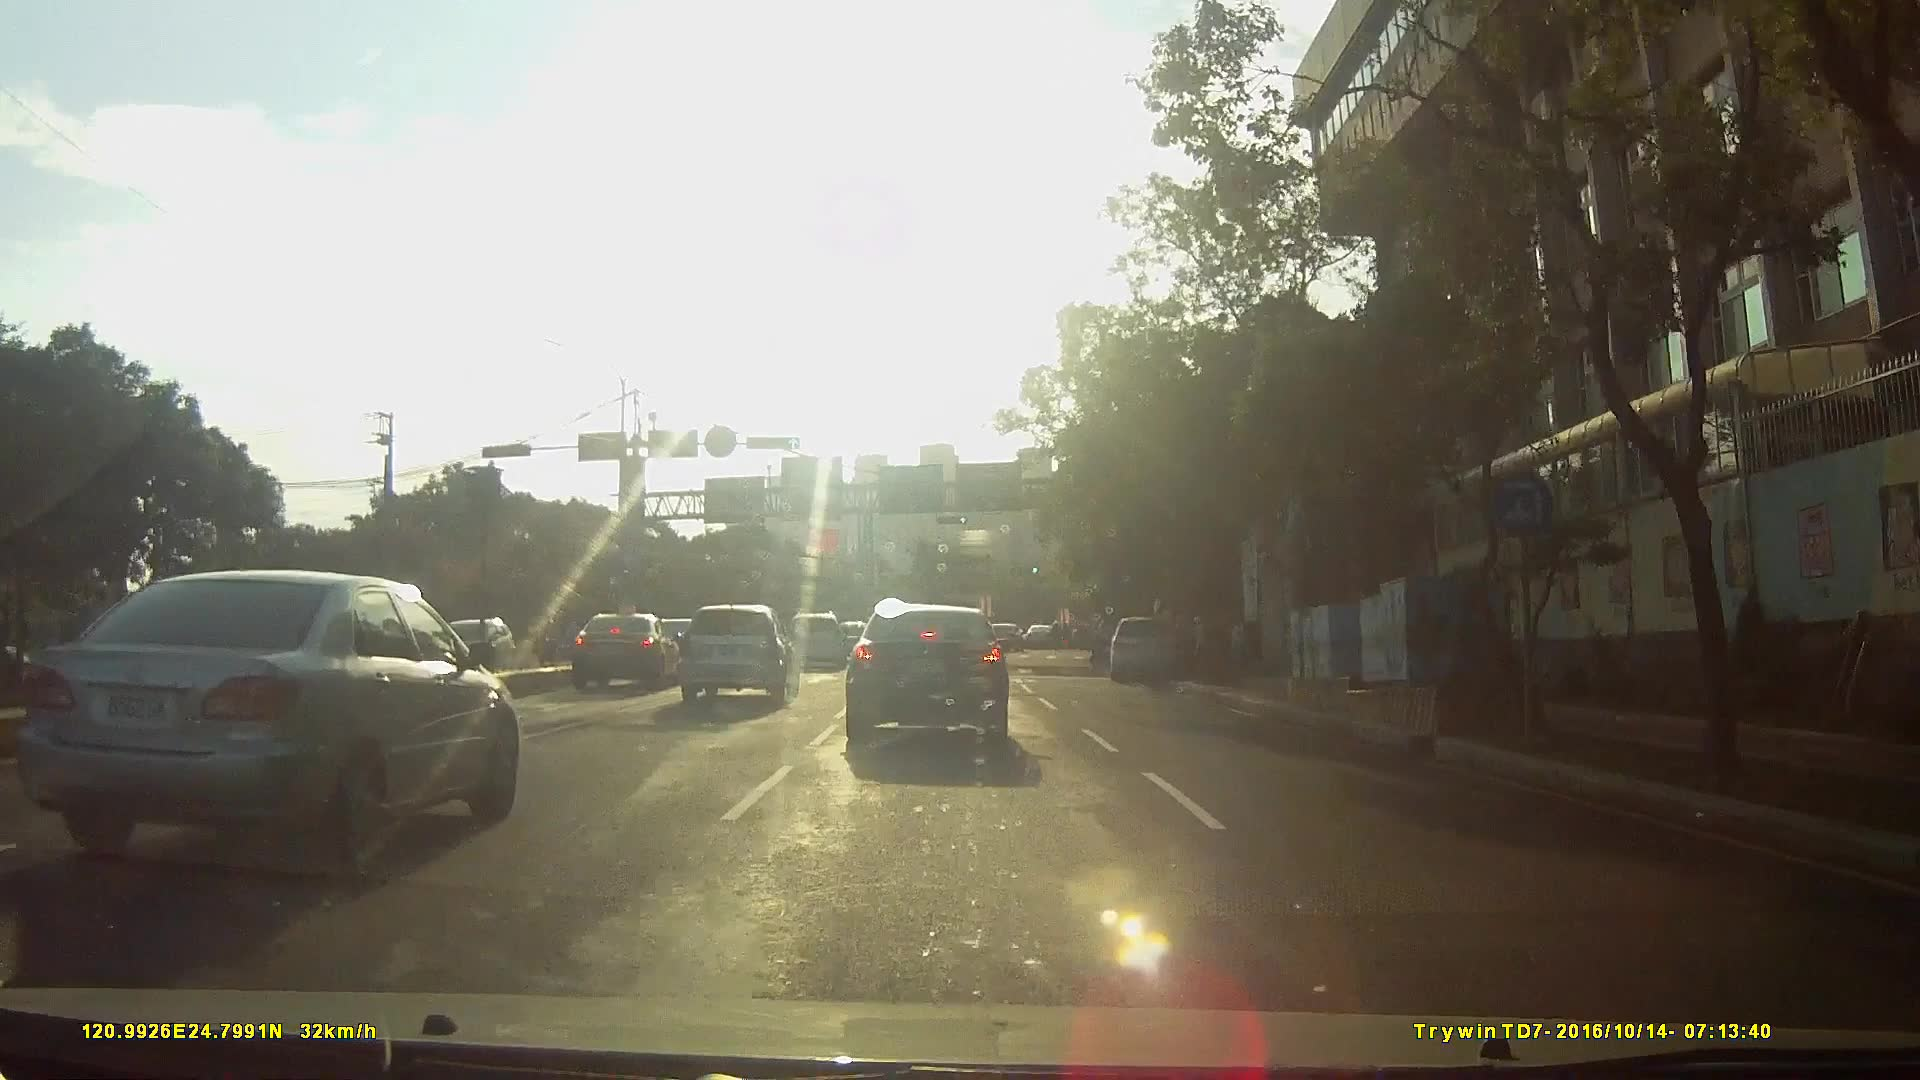vehicle: (21, 550, 531, 880), (833, 603, 1025, 767), (671, 589, 798, 698), (550, 597, 667, 684), (433, 607, 520, 675), (1110, 600, 1188, 673), (782, 600, 849, 659), (989, 612, 1029, 644), (1023, 612, 1065, 640)
